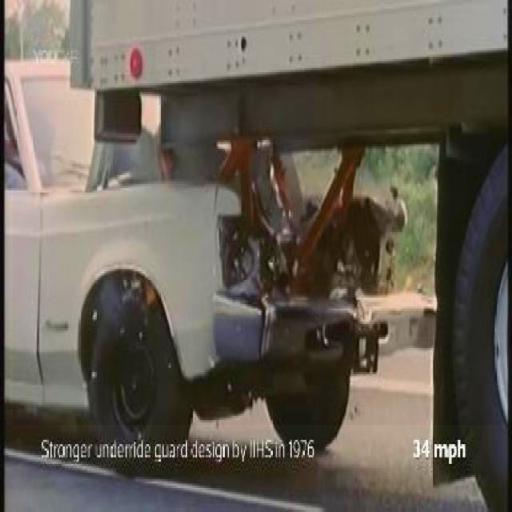小汽车撞小汽车: (13, 0, 506, 425)
